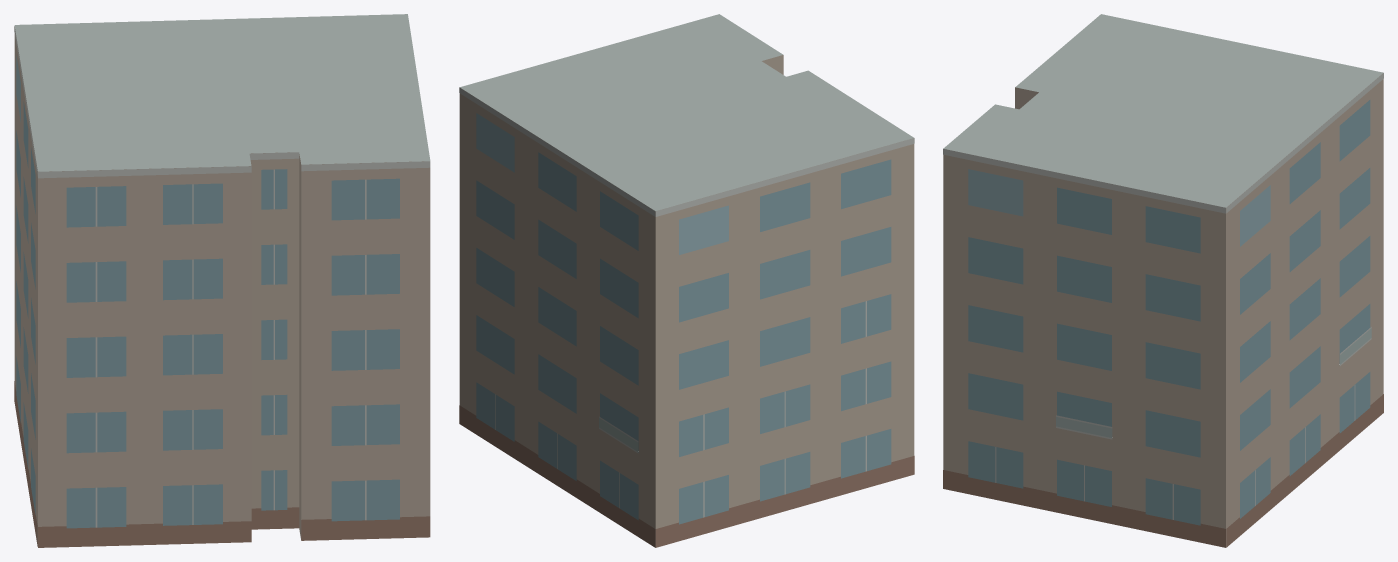
File: survey-upis-32842907.glb
3 renders of one model, left to right at view 1: azimuth 30°, elevation 25°; view 2: azimuth 150°, elevation 25°; view 3: azimuth 270°, elevation 25°, orthographic. The views are drawn at different scales.
Visible parts, largest first — view 1: survey-upis-32842907.tmp; view 2: survey-upis-32842907.tmp; view 3: survey-upis-32842907.tmp.
Boxes of the visible parts, x1,y1,x2,y2 form: survey-upis-32842907.tmp: (14,14,430,547); survey-upis-32842907.tmp: (459,14,914,547); survey-upis-32842907.tmp: (943,14,1383,547).
Bounding box in the file's own units: 17.11 × 14 × 16.45.
